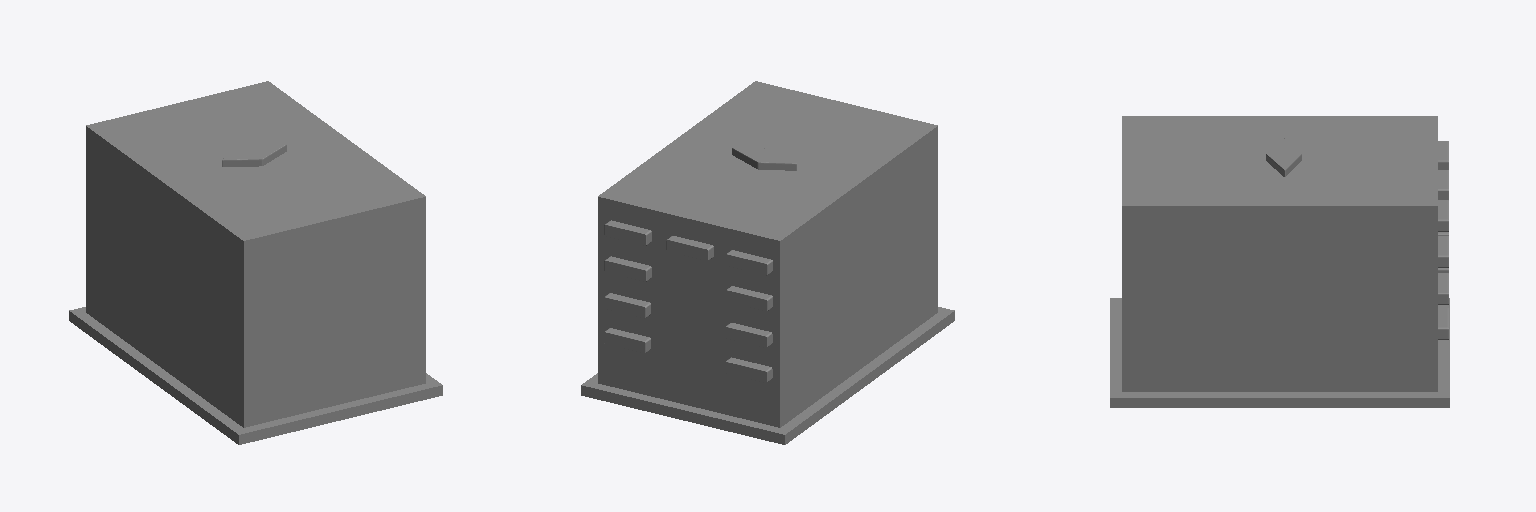
The model's file is StarComputerServices.obj.
3 views of the same model, side by side, from view 1: azimuth 30°, elevation 25°; view 2: azimuth 150°, elevation 25°; view 3: azimuth 270°, elevation 25° (orthographic).
Visible parts, largest first — view 1: Object196; view 2: Object196; view 3: Object196.
Part boxes in pixels (left/top/right/bottom): Object196: left=69, top=81, right=442, bottom=444; Object196: left=581, top=81, right=954, bottom=444; Object196: left=1110, top=116, right=1449, bottom=407.
Size of the model in its own units: 38.7 by 37.05 by 55.8.